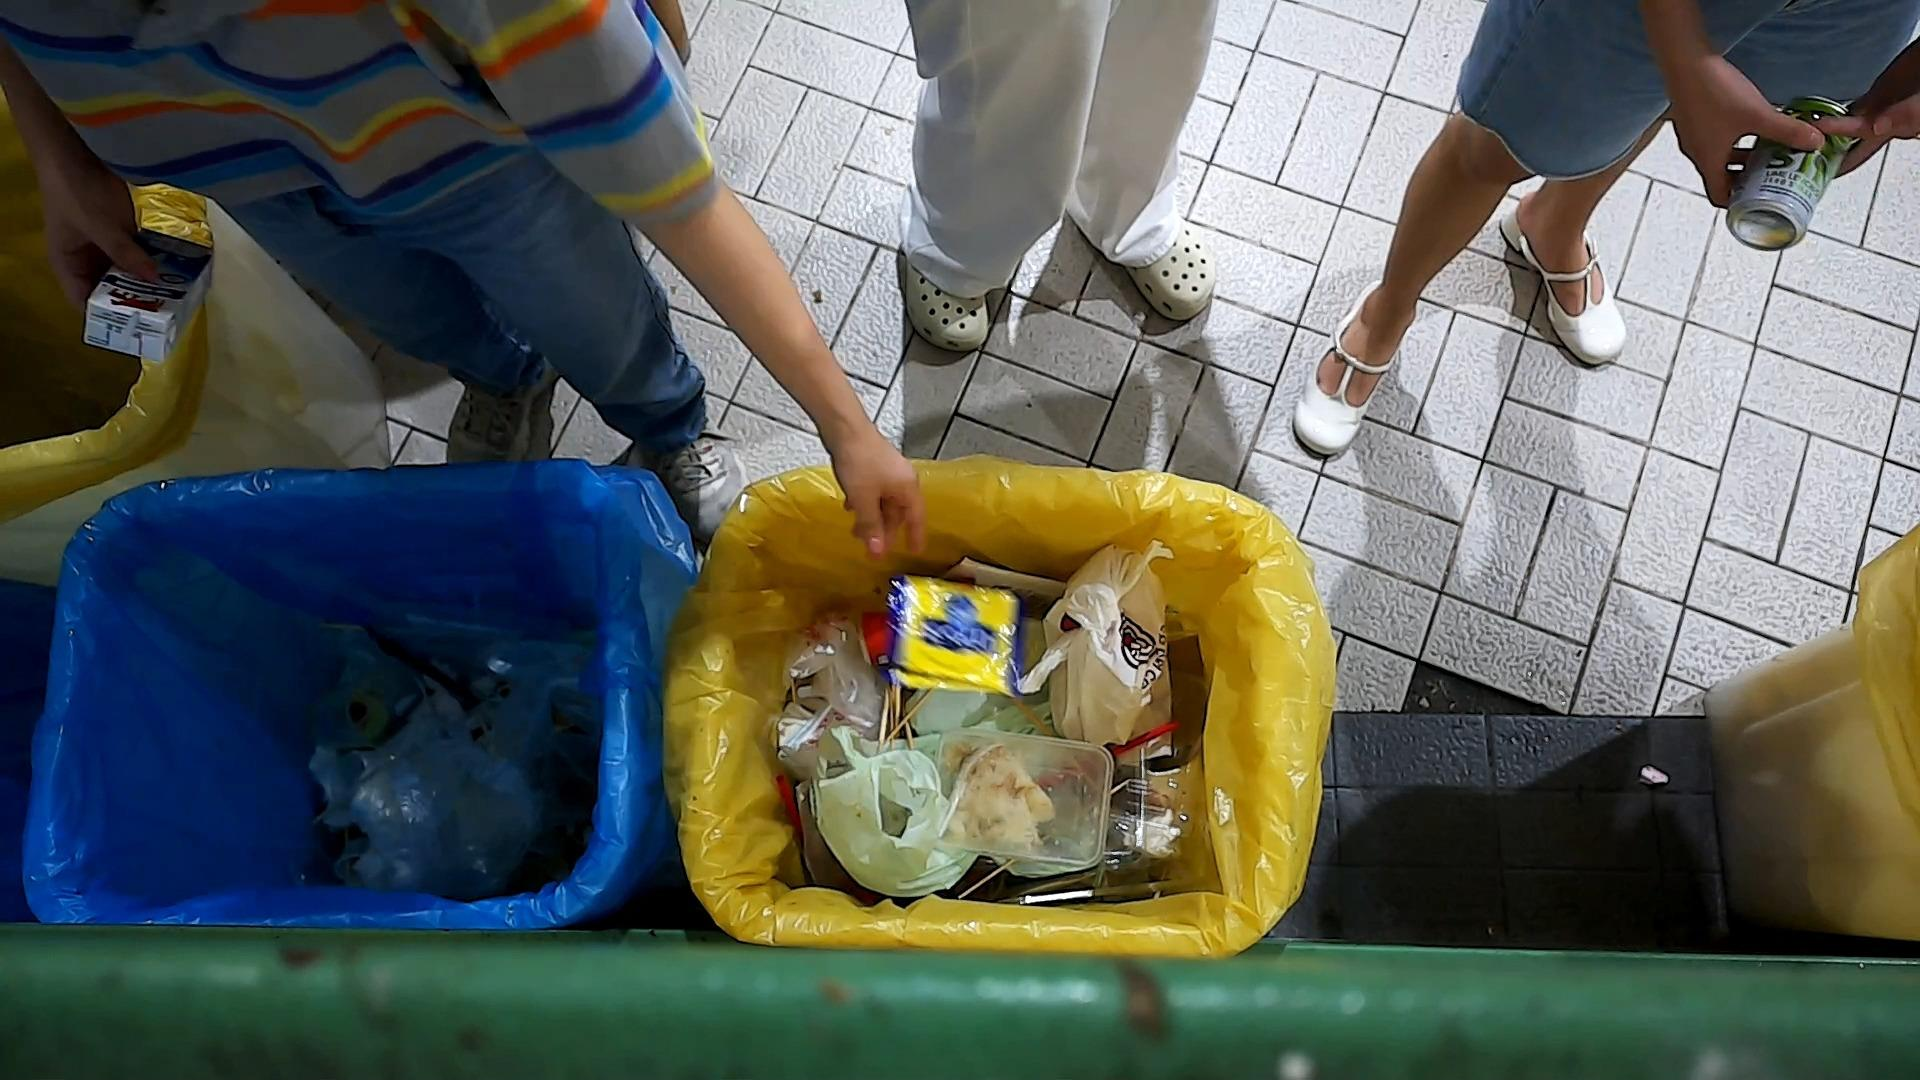can: (1724, 91, 1855, 253)
dirty food container: (931, 724, 1116, 876)
filled plastic bag: (1011, 538, 1182, 760), (802, 707, 989, 903)
milk carton: (80, 225, 219, 365)
plastic bag: (344, 654, 564, 906), (775, 597, 885, 748)
plastic cup: (301, 645, 433, 756)
snack packaging: (878, 571, 1029, 702)
sticks: (956, 777, 1134, 901), (305, 753, 398, 831)
straw: (1109, 717, 1185, 760), (773, 773, 807, 855)
